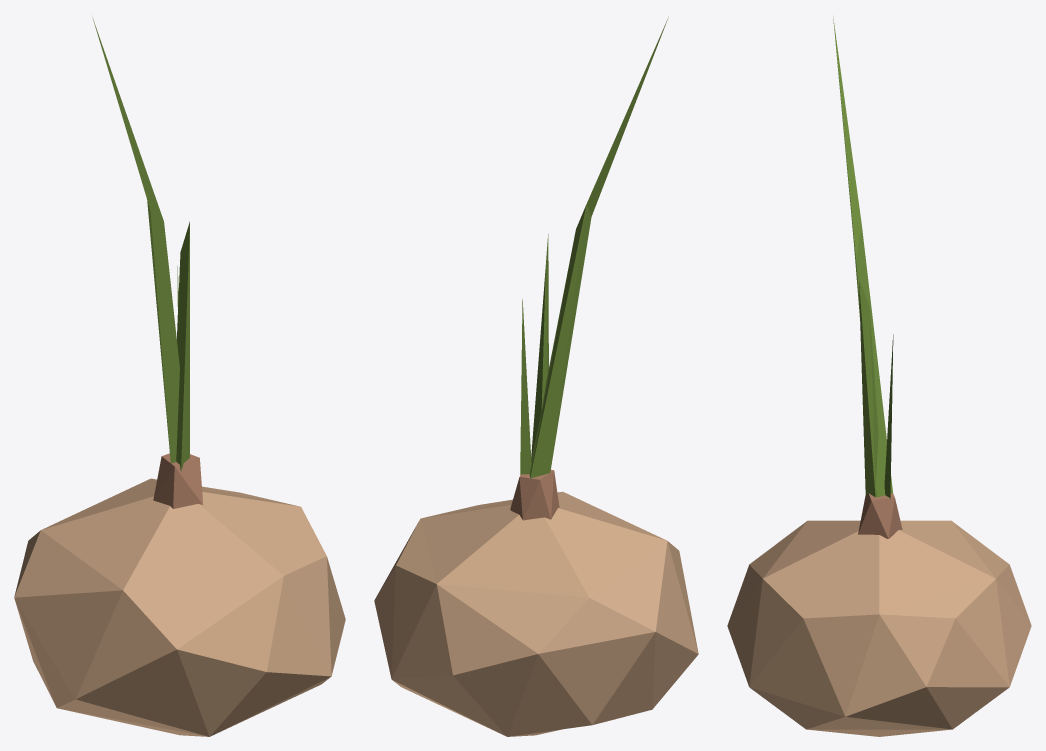
File: Food_06.fbx
The picture shows the model from 3 angles, left to right: view 1: azimuth 30°, elevation 25°; view 2: azimuth 150°, elevation 25°; view 3: azimuth 270°, elevation 25°; orthographic projection. The views are drawn at different scales.
Visible parts, largest first — view 1: Food_06; view 2: Food_06; view 3: Food_06.
Boxes of the visible parts, x1,y1,x2,y2 form: Food_06: [14, 18, 345, 736]; Food_06: [374, 17, 698, 736]; Food_06: [727, 16, 1031, 736].
Size of the model in its own units: 13.12 by 32.93 by 13.48.
